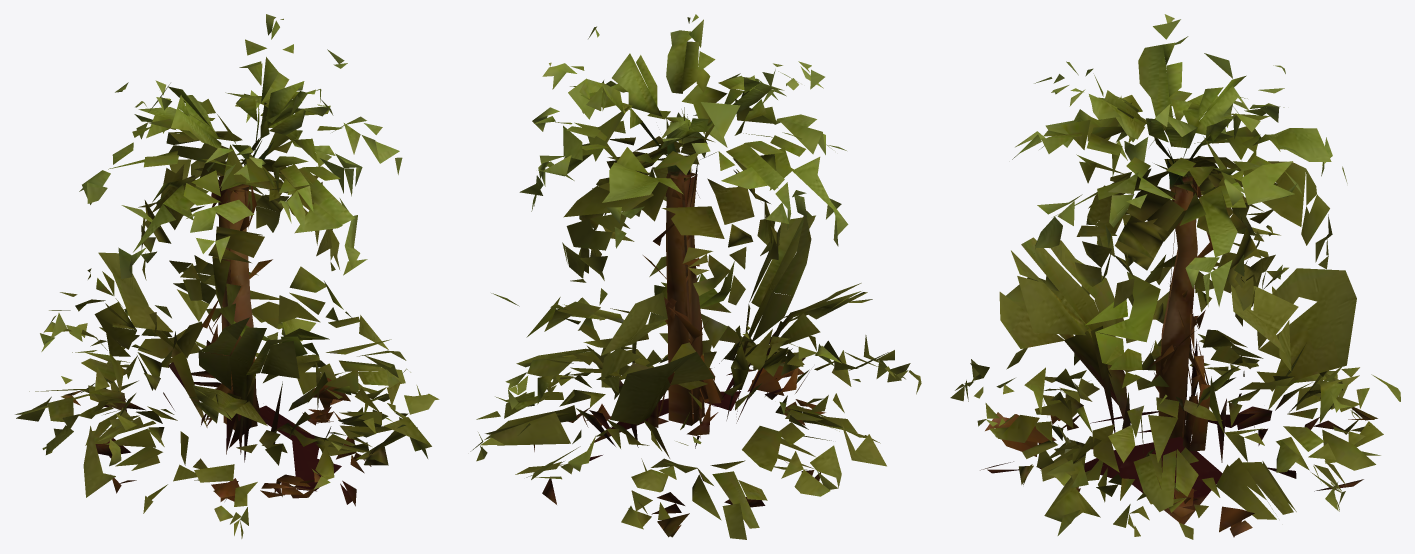
File: jun_fern_cluster_low_LOD3.glb
3 views of the same model, side by side, from view 1: azimuth 30°, elevation 25°; view 2: azimuth 150°, elevation 25°; view 3: azimuth 270°, elevation 25° (orthographic). The views are drawn at different scales.
Visible parts, largest first — view 1: tripo_node_f26c364c-f640-4782-969d-d89758f2ef56; view 2: tripo_node_f26c364c-f640-4782-969d-d89758f2ef56; view 3: tripo_node_f26c364c-f640-4782-969d-d89758f2ef56.
Boxes of the visible parts, x1,y1,x2,y2 form: tripo_node_f26c364c-f640-4782-969d-d89758f2ef56: [15, 14, 439, 538]; tripo_node_f26c364c-f640-4782-969d-d89758f2ef56: [470, 14, 921, 539]; tripo_node_f26c364c-f640-4782-969d-d89758f2ef56: [950, 14, 1400, 539].
Bounding box in the file's own units: 0.9142 × 1.03 × 0.9939.
Materials: 1 (1 with a texture image).
